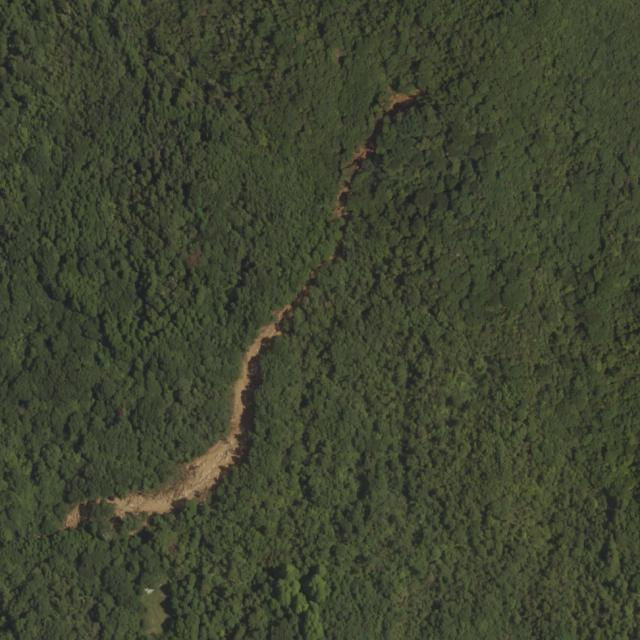landslide: (106, 305, 292, 520), (61, 503, 86, 529)
